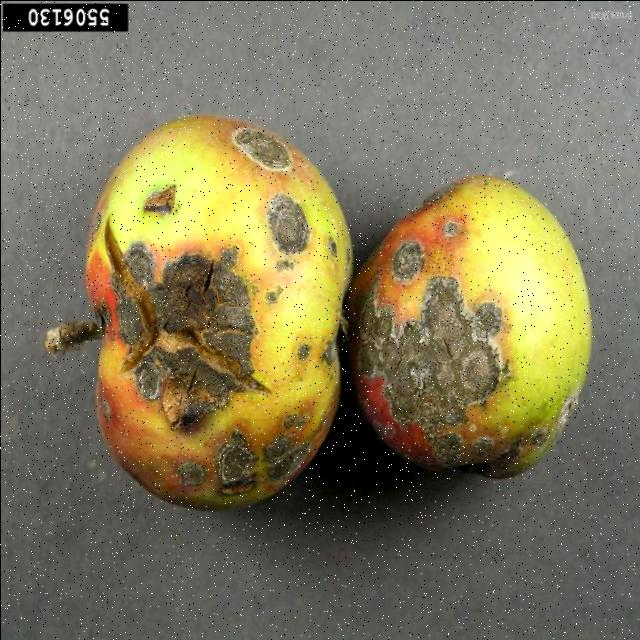SCAB: (32, 118, 328, 557), (364, 148, 604, 507)
